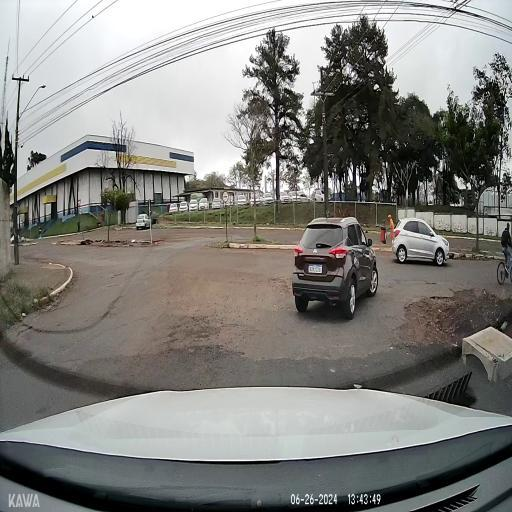R-2: (76, 200, 82, 207)
